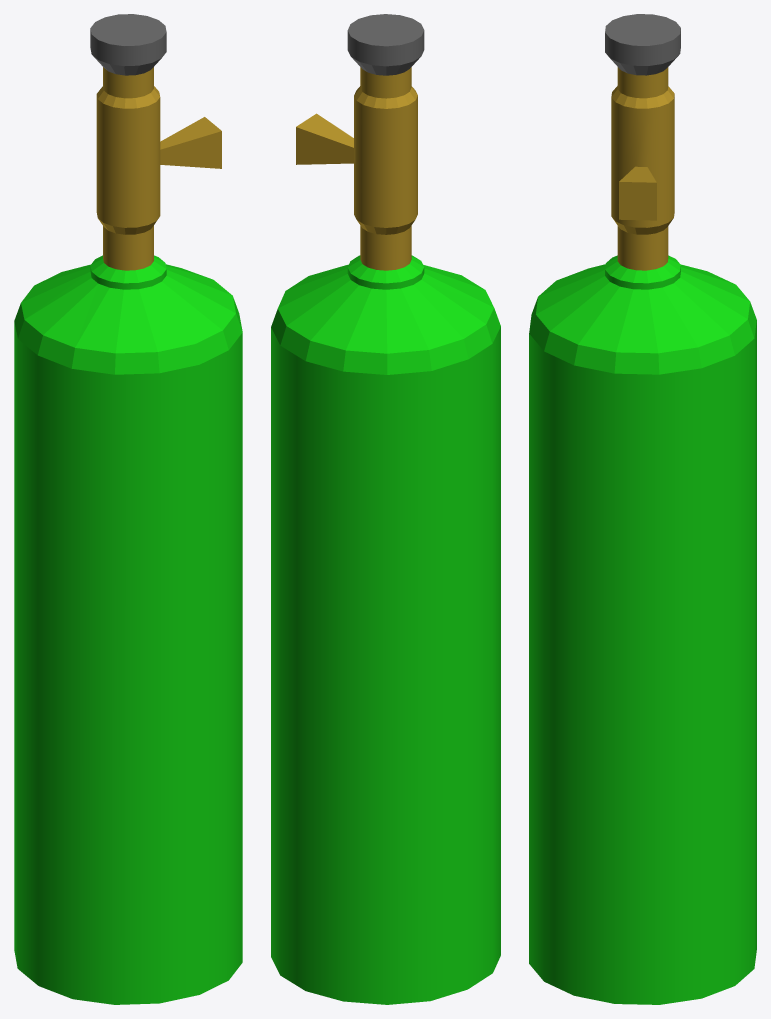
The model's file is butla_z_gazem.FBX.
The picture shows the model from 3 angles, left to right: view 1: azimuth 30°, elevation 25°; view 2: azimuth 150°, elevation 25°; view 3: azimuth 270°, elevation 25°; orthographic projection.
Parts seen in each view (by area): view 1: Cylinder001; view 2: Cylinder001; view 3: Cylinder001.
Boxes of the visible parts, bbox=[...] form: Cylinder001: bbox=[14, 14, 242, 1004]; Cylinder001: bbox=[271, 14, 500, 1004]; Cylinder001: bbox=[529, 14, 756, 1004].
Bounding box in the file's own units: 17.82 × 80 × 17.82.
